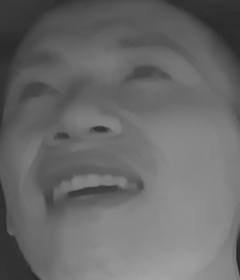eye: (120, 62, 175, 91), (12, 78, 55, 101)
mouth: (32, 159, 148, 218)
